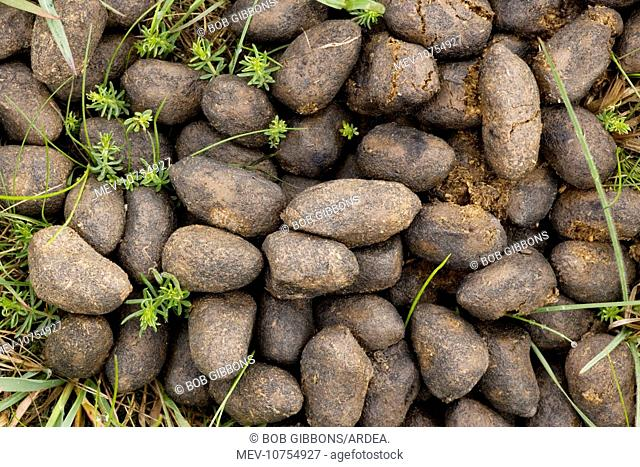Elk: (9, 4, 613, 416)
